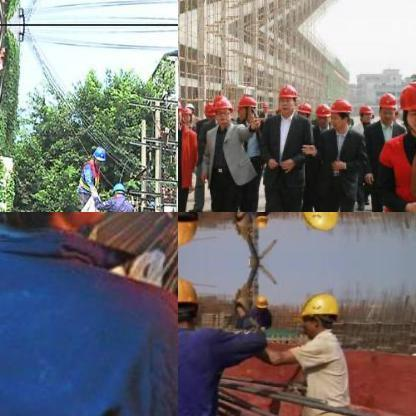Helmet: (298, 290, 338, 338), (178, 273, 203, 333), (396, 79, 415, 133), (178, 212, 203, 247), (272, 80, 298, 113), (297, 212, 339, 231), (328, 96, 350, 128), (376, 90, 396, 121), (210, 94, 232, 122), (234, 91, 256, 119), (88, 143, 107, 165), (314, 100, 330, 126), (251, 212, 270, 232), (251, 289, 269, 309), (179, 103, 193, 125), (296, 98, 310, 120), (200, 100, 214, 121), (358, 102, 372, 122), (110, 180, 126, 196), (178, 93, 183, 123)
